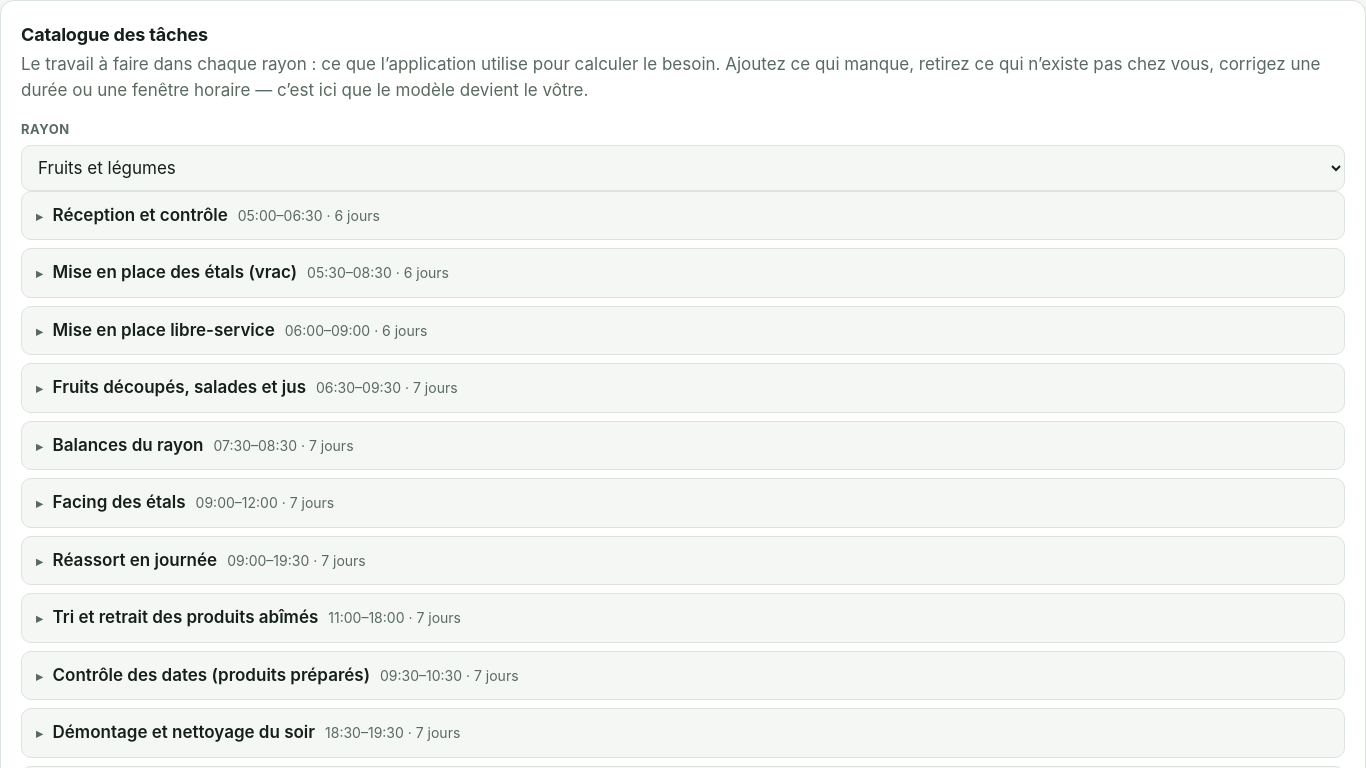
Test: catalogue des tâches › change la fenêtre horaire d’une tâche
The width and height of the screenshot is (1366, 768).
Click the text "Réception et contrôle": (140, 215) x1=52 y1=202 x2=228 y2=228
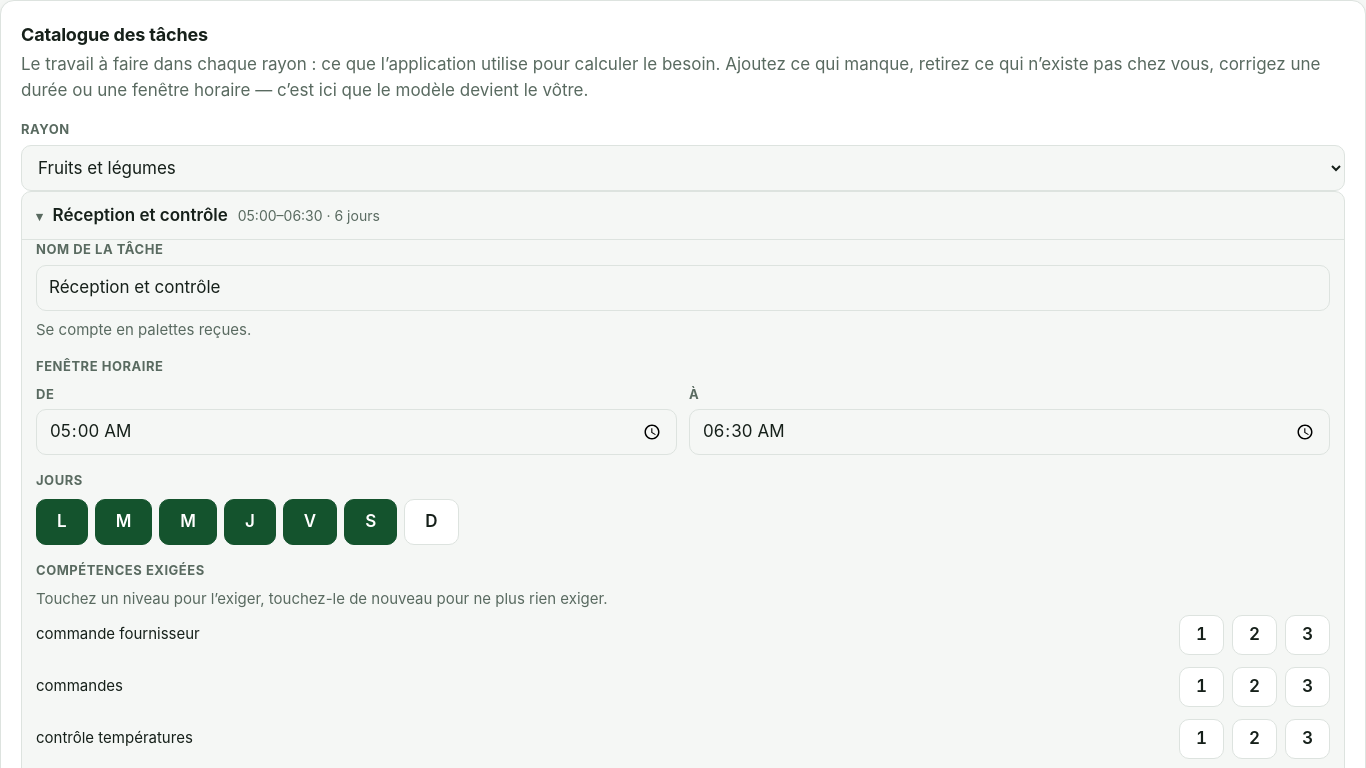
Replace the text in the time field labelled "De" with "04:30": (356, 432) x1=36 y1=409 x2=677 y2=455
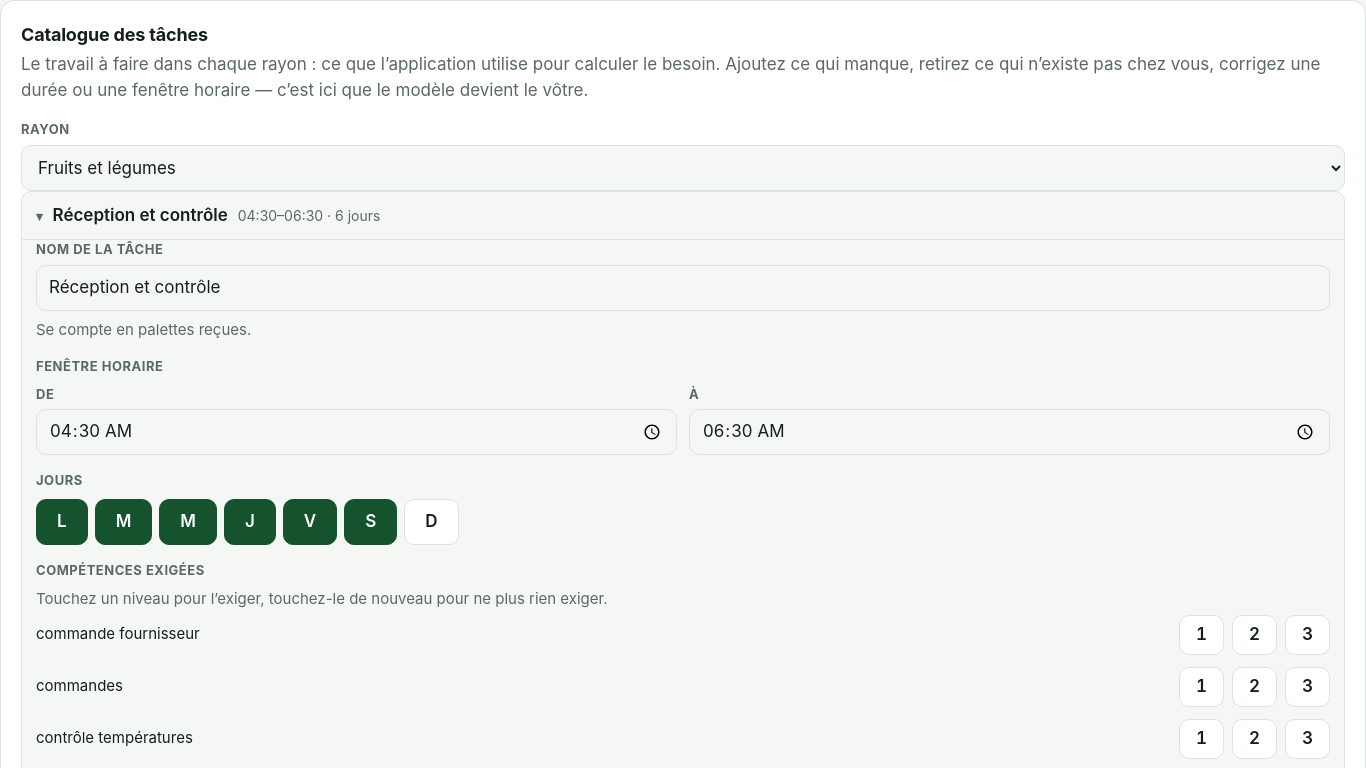
Check: the text "04:30–06:30 · 6 jours" is shown, box x1=238 y1=204 x2=380 y2=226
